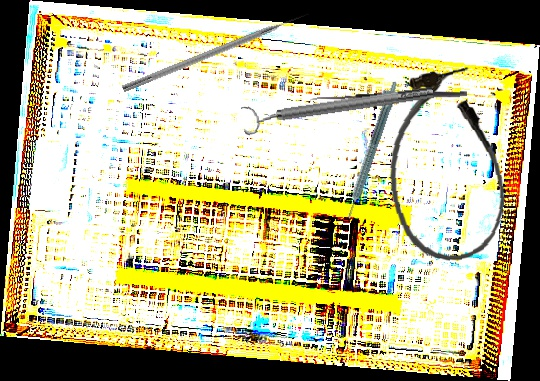Cannula: (380, 64, 512, 267)
Fixation Ring: (240, 77, 436, 137)
Handpiece: (338, 77, 401, 221)
Hook Surgical: (121, 9, 311, 95), (309, 90, 468, 110)
